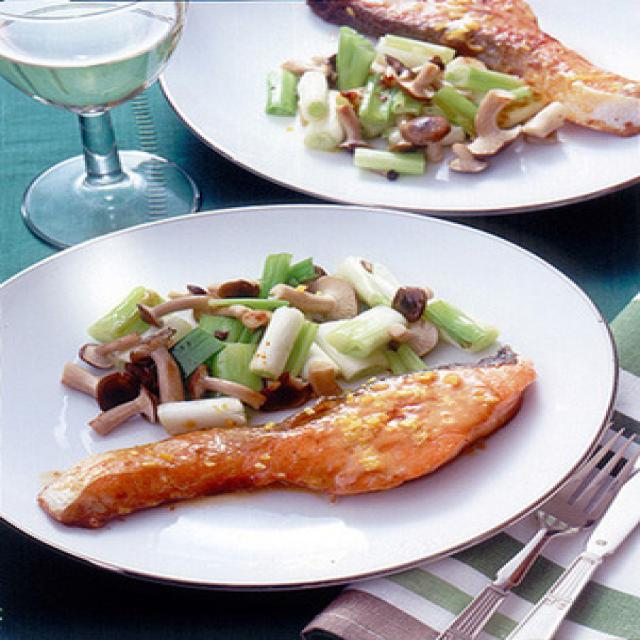熟制海鲜: (30, 336, 546, 540)
